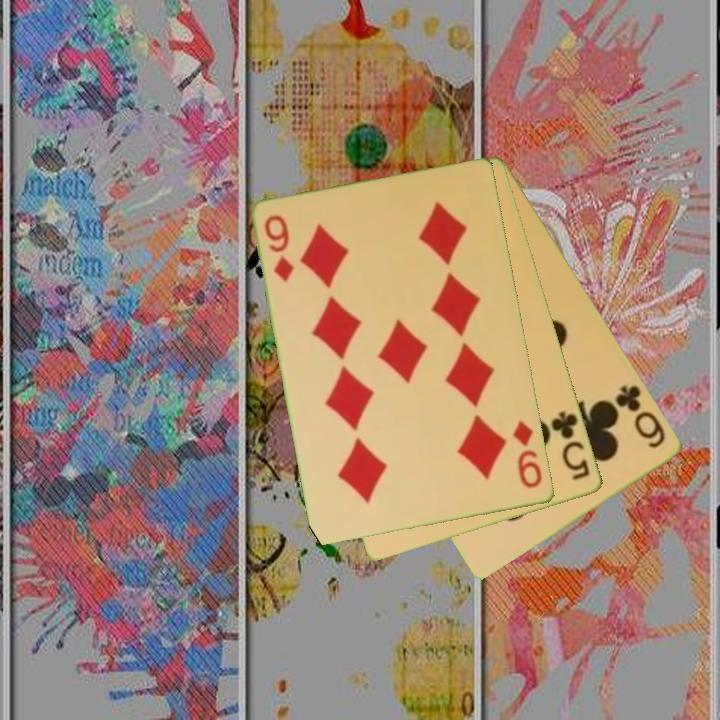5c: (548, 408, 593, 484)
6c: (612, 381, 669, 452)
9d: (261, 211, 298, 285), (510, 416, 546, 492)
